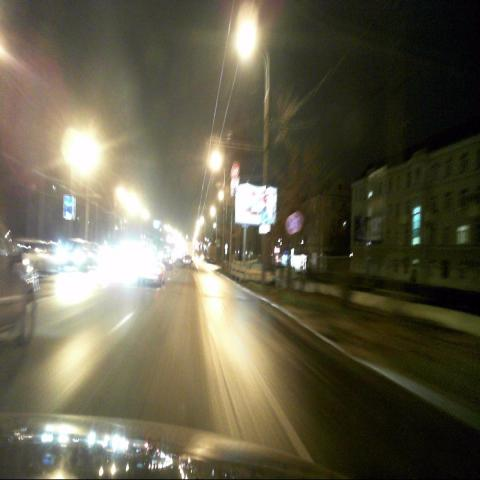3_1: (231, 162, 240, 178)
3_27: (286, 214, 298, 234)
